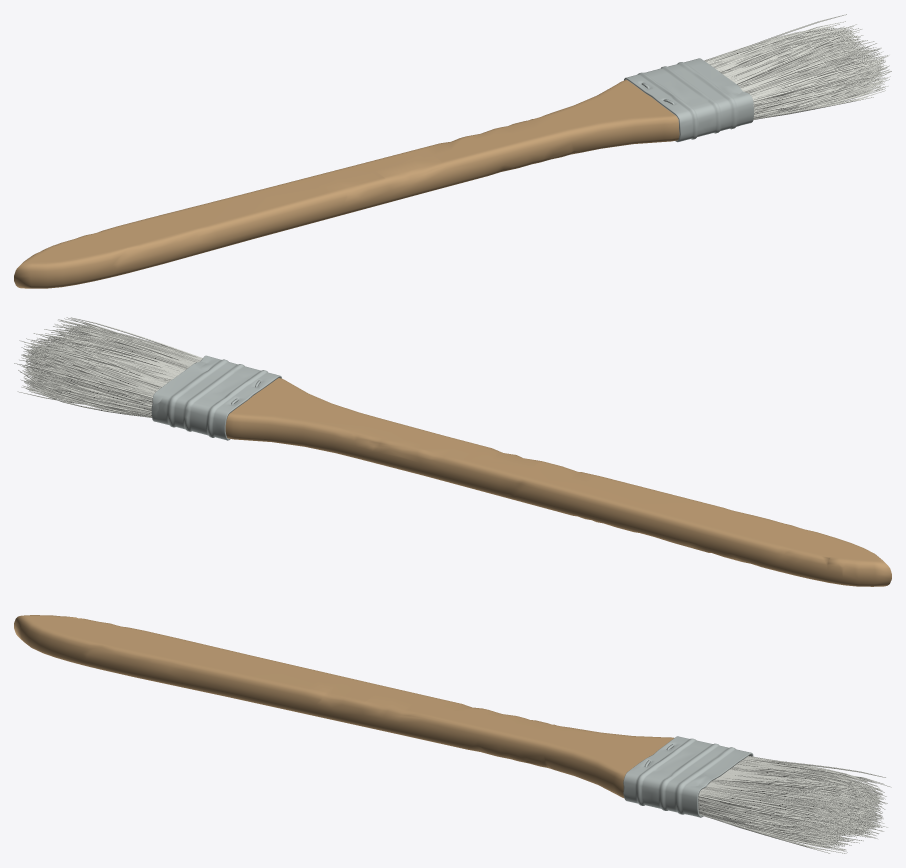
Rendered from paint_supplies_brush_a02.glb.
3 renders of one model, top to bottom at view 1: azimuth 30°, elevation 25°; view 2: azimuth 150°, elevation 25°; view 3: azimuth 330°, elevation 25°, orthographic.
Size of the model in its own units: 0.2808 by 0.0173 by 0.0335.
